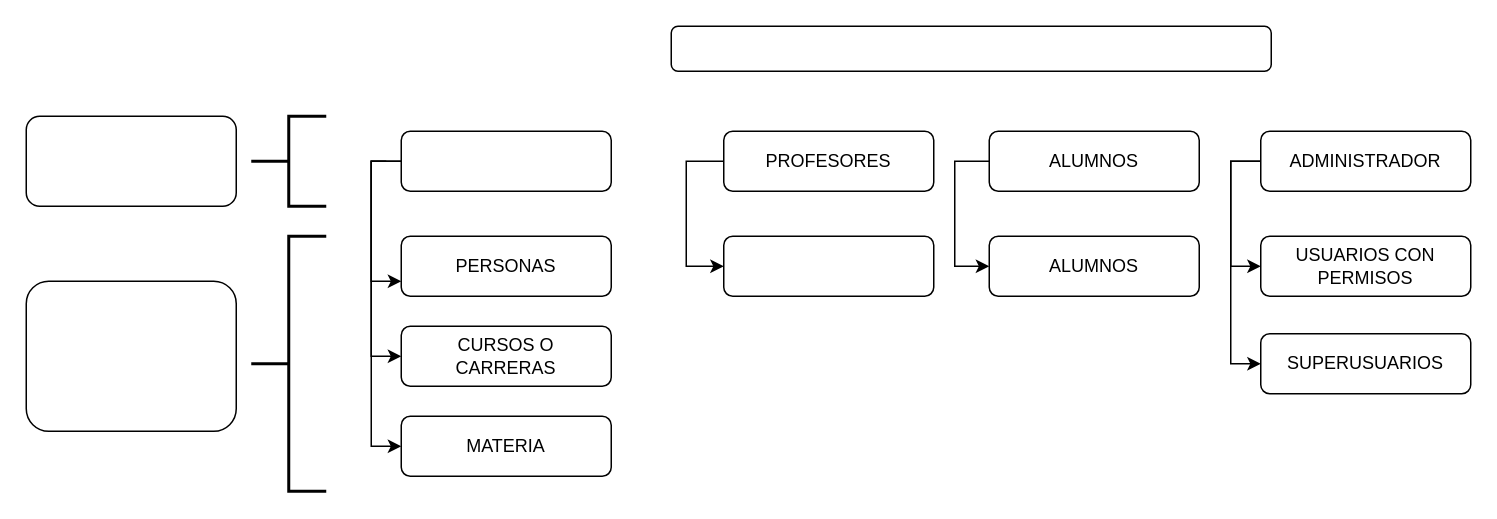
The diagram is 1497 pixels wide and 519 high, and some of its shapes have lost their labels. Here are the shapes that lost their labels. From the top down, the centre of each, then its label:
the point at 970,48: SISTEMA SYSACAD
the point at 130,160: PANTALLA PRINCIPAL CON INGRESO DE USUARIOS
the point at 505,160: ADMINISTRACION
the point at 828,265: POSTULA A LAS MATERIAS
the point at 130,355: ACCIONES DE CARGAS
